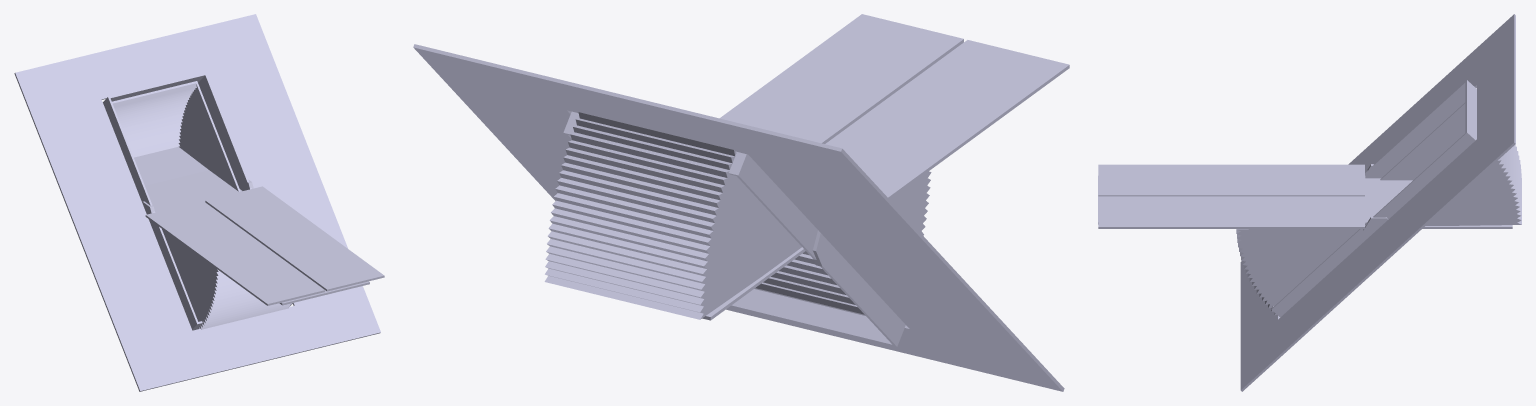
The model's file is LSPan05.glb.
3 renders of one model, left to right at view 1: azimuth 30°, elevation 25°; view 2: azimuth 150°, elevation 25°; view 3: azimuth 270°, elevation 25°, orthographic. The views are drawn at different scales.
Parts seen in each view (by area): view 1: copy_Body021, copy_Body022, copy_LinkGroup004, copy_Body016, copy_Body017, copy_Body023, copy_Body, copy_LinkGroup003; view 2: copy_Body021, copy_Body022, copy_LinkGroup004, copy_Body016, copy_Body, copy_Body017, copy_Body023, copy_LinkGroup003; view 3: copy_Body021, copy_Body016, copy_Body022, copy_LinkGroup004, copy_Body017, copy_Body, copy_Body023, copy_LinkGroup003.
Part boxes in pixels (x1=…): copy_Body021: x1=14, y1=14, x2=380, y2=391; copy_Body022: x1=112, y1=81, x2=240, y2=191; copy_LinkGroup004: x1=186, y1=190, x2=369, y2=305; copy_Body016: x1=220, y1=186, x2=384, y2=287; copy_Body017: x1=145, y1=204, x2=309, y2=305; copy_Body023: x1=162, y1=229, x2=291, y2=329; copy_Body: x1=103, y1=73, x2=292, y2=330; copy_LinkGroup003: x1=145, y1=170, x2=242, y2=212; copy_Body021: x1=413, y1=44, x2=1064, y2=391; copy_Body022: x1=544, y1=112, x2=801, y2=319; copy_LinkGroup004: x1=745, y1=20, x2=1043, y2=182; copy_Body016: x1=719, y1=14, x2=937, y2=136; copy_Body: x1=563, y1=111, x2=905, y2=346; copy_Body017: x1=852, y1=46, x2=1069, y2=199; copy_Body023: x1=754, y1=171, x2=931, y2=315; copy_LinkGroup003: x1=702, y1=247, x2=805, y2=320; copy_Body021: x1=1240, y1=14, x2=1515, y2=391; copy_Body016: x1=1098, y1=204, x2=1364, y2=228; copy_Body022: x1=1380, y1=102, x2=1521, y2=225; copy_LinkGroup004: x1=1098, y1=172, x2=1365, y2=224; copy_Body017: x1=1098, y1=164, x2=1364, y2=187; copy_Body: x1=1271, y1=80, x2=1476, y2=317; copy_Body023: x1=1236, y1=229, x2=1358, y2=315; copy_LinkGroup003: x1=1365, y1=178, x2=1512, y2=228.
Bounding box in the file's own units: 1.68 × 1.52 × 2.34.
